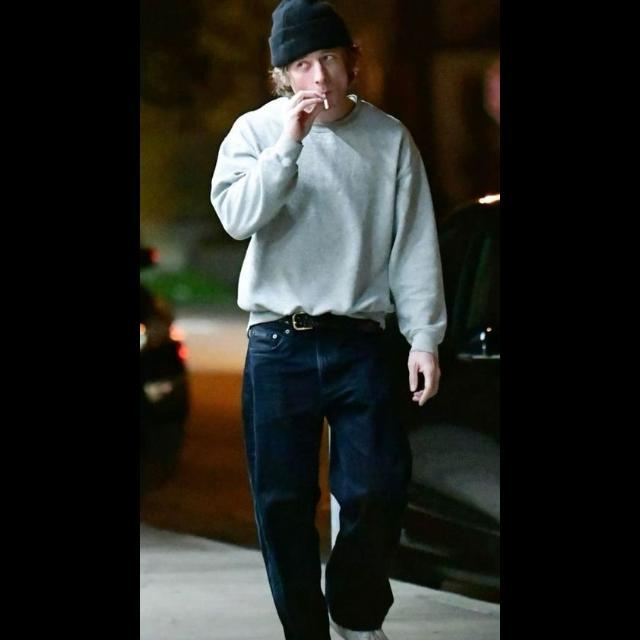rokok: (322, 95, 332, 109)
